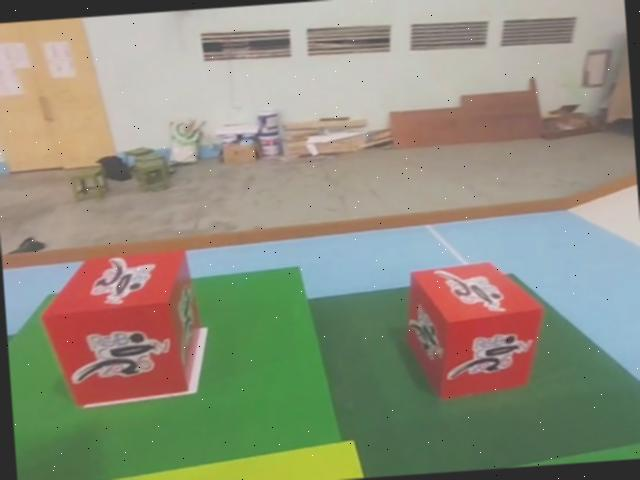R1: (34, 243, 210, 416), (398, 256, 550, 408)
